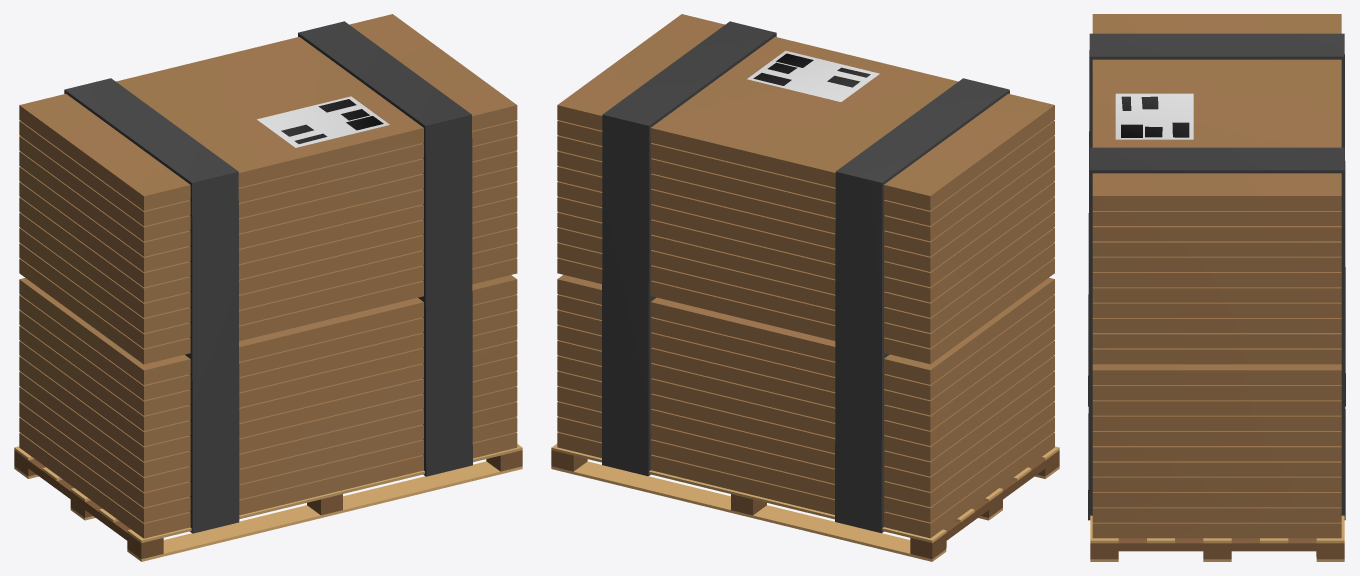
The model's file is Shipping Materials #1.fbx.
3 views of the same model, side by side, from view 1: azimuth 30°, elevation 25°; view 2: azimuth 150°, elevation 25°; view 3: azimuth 270°, elevation 25° (orthographic).
Parts seen in each view (by area): view 1: Shipping Materials #1; view 2: Shipping Materials #1; view 3: Shipping Materials #1.
Boxes of the visible parts, left/top/right/bottom form: Shipping Materials #1: left=14, top=14, right=522, bottom=561; Shipping Materials #1: left=551, top=14, right=1059, bottom=561; Shipping Materials #1: left=1088, top=14, right=1345, bottom=561.
Size of the model in its own units: 689 by 439 by 750.
1 material, 1 textured.
